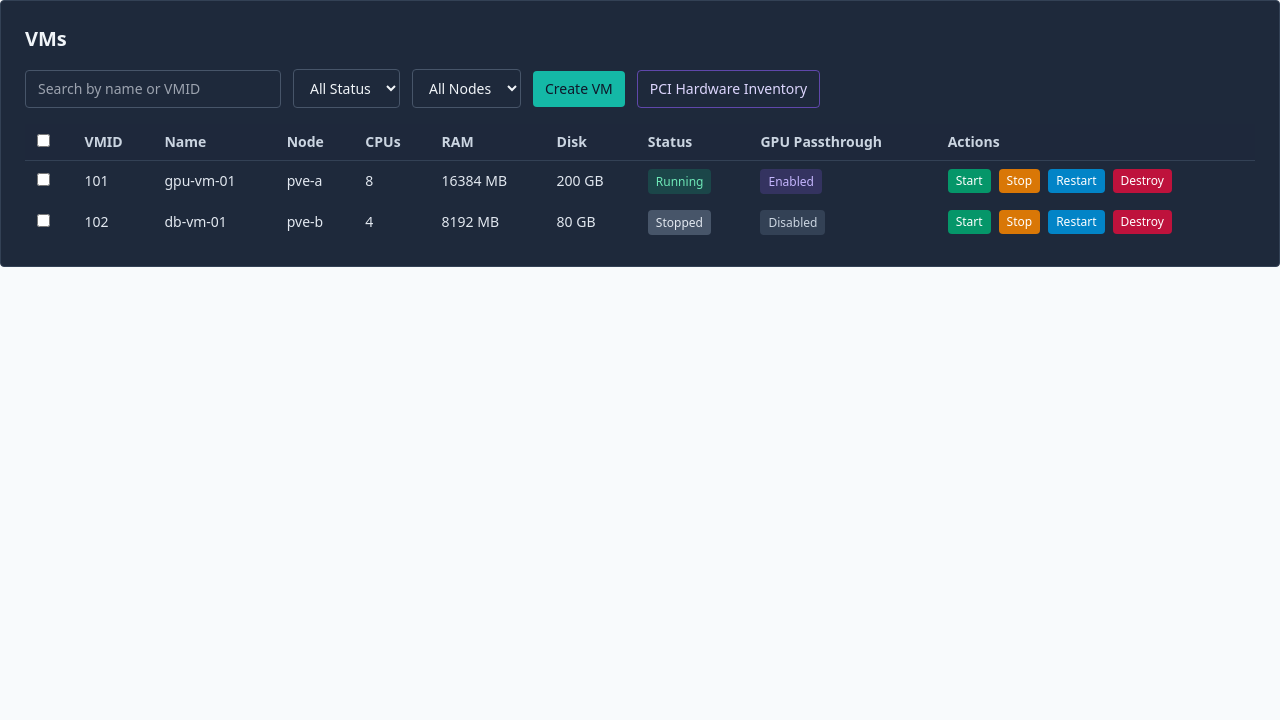
VmListPage › batch destroy requires typing DESTROY
Click the checkbox with test id "checkbox-vm-101". click: coordinates (44, 180)
box: [37,173,50,186]
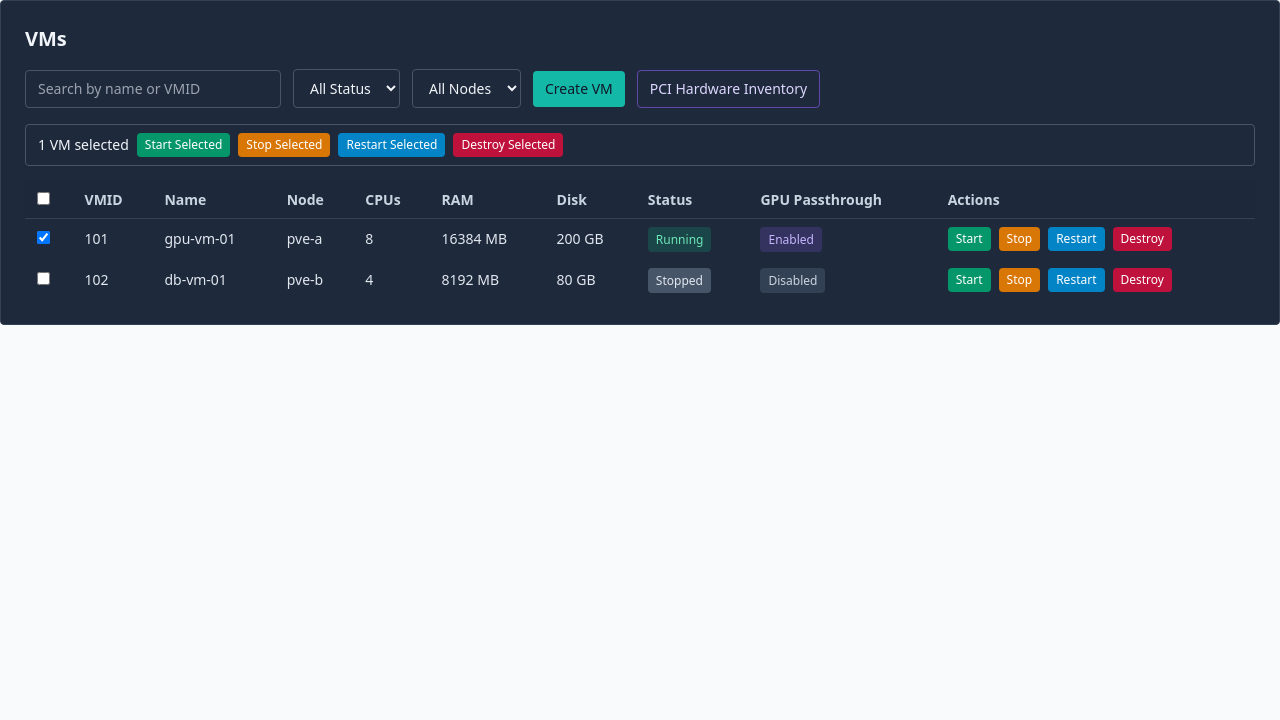
Click the button with test id "btn-batch-destroy". click: coordinates (508, 145)
box: [453,133,563,157]
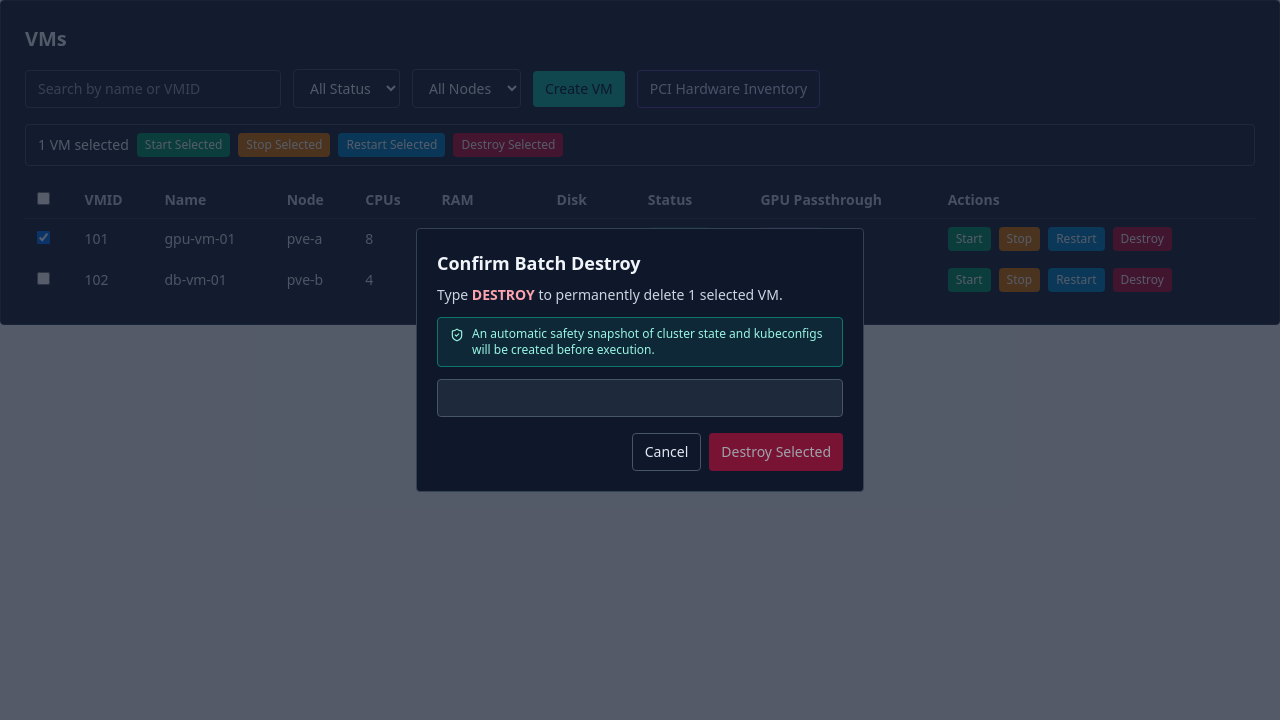
Now the element with test id "modal-confirm-batch-destroy" is shown, box [416,228,864,492]
Now the element with test id "banner-safety-snapshot-notice" is shown, box [437,317,843,367]
Now the button with test id "btn-confirm-batch-destroy" is disabled, box [709,433,843,471]
Type "DESTROY" into the field with test id "input-confirm-batch-destroy". click: coordinates (640, 398)
box: [437,379,843,417]
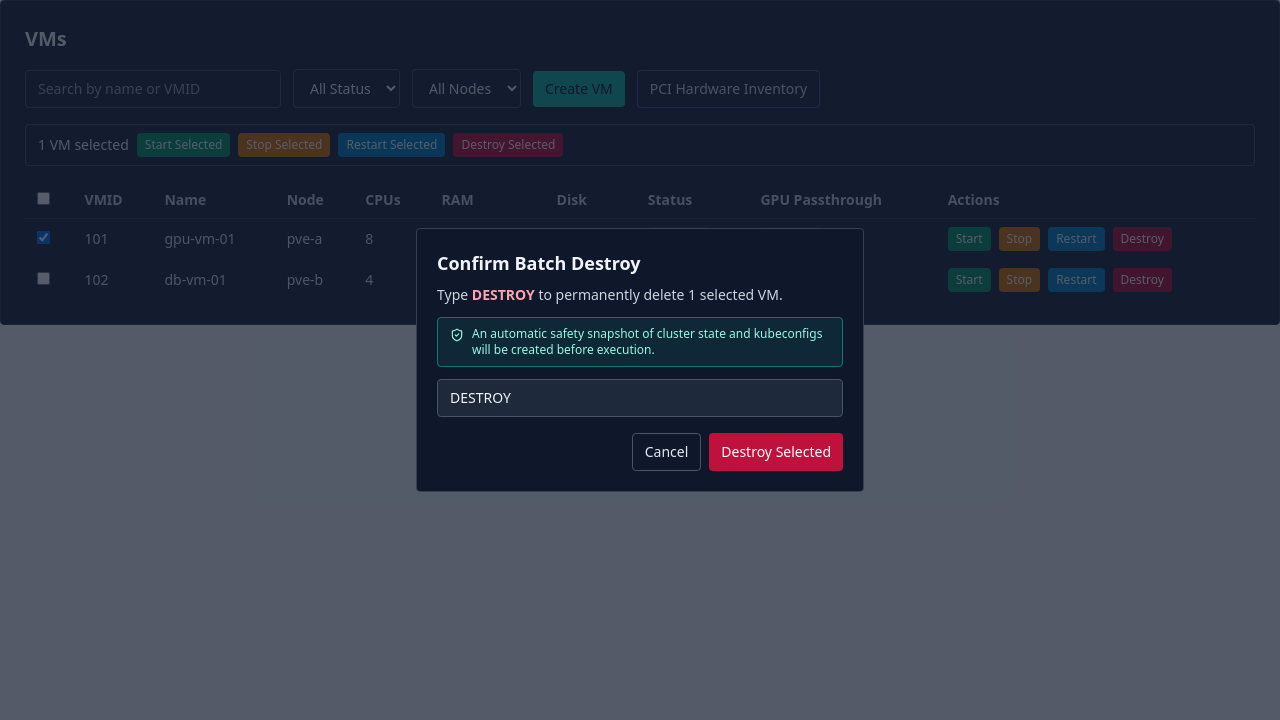
Click the button with test id "btn-confirm-batch-destroy". click: coordinates (776, 452)
box: [709,433,843,471]
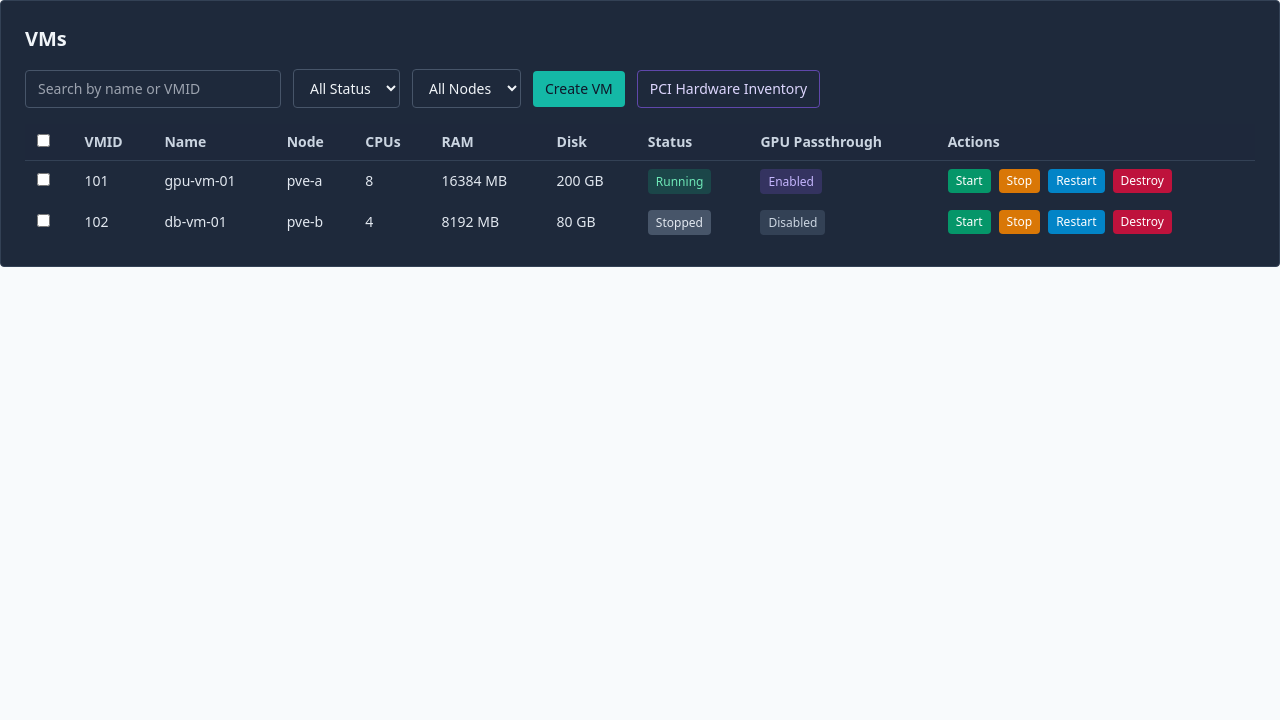
Now the element with test id "modal-confirm-batch-destroy" is gone
